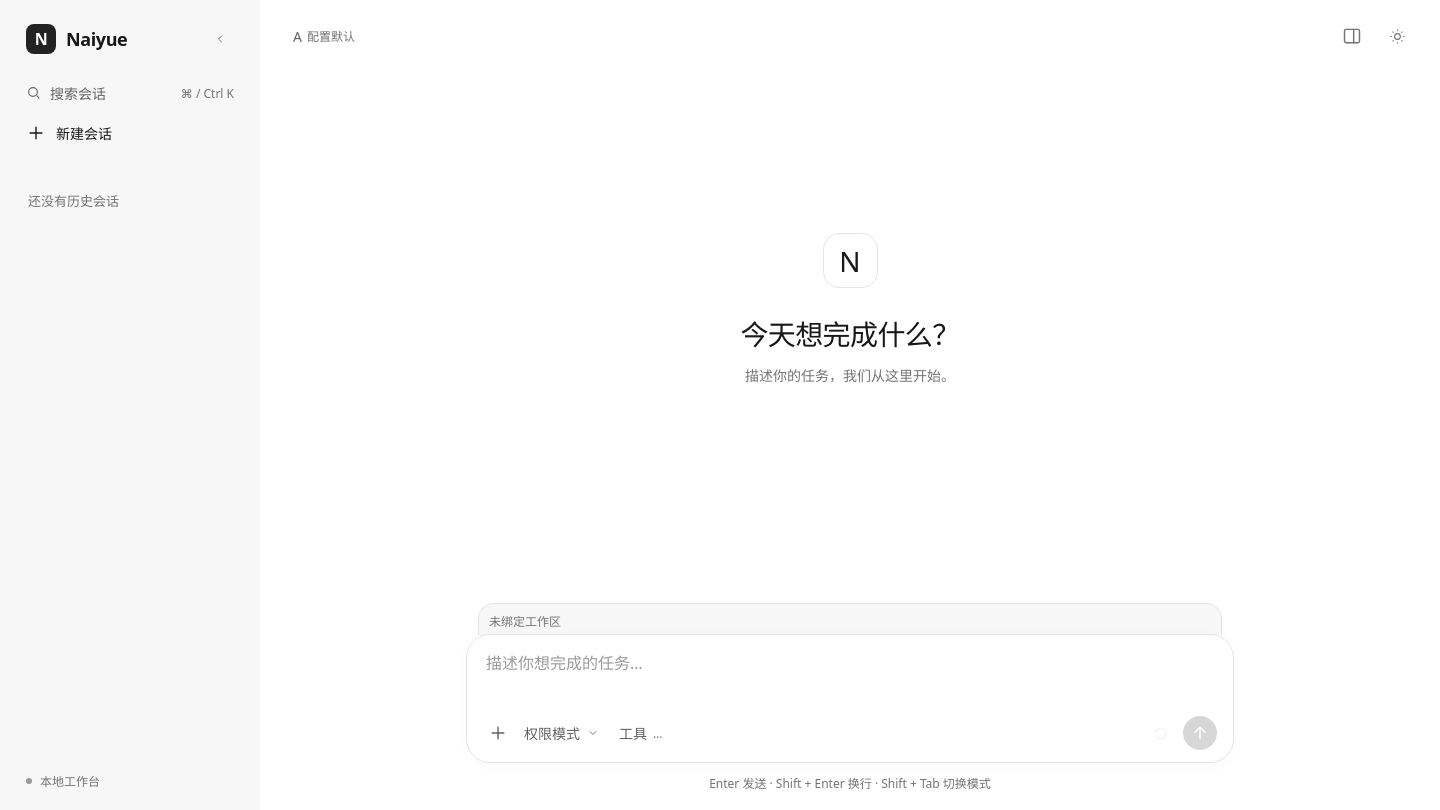
Test: opens the same header model menu with /model without starting a run
Expected: the button with aria-label "模型与推理强度：A" is shown, [288,19,360,53]
Step 1. Type "/model" into the text box named "消息" → point(850, 676), box [483,650,1217,703]
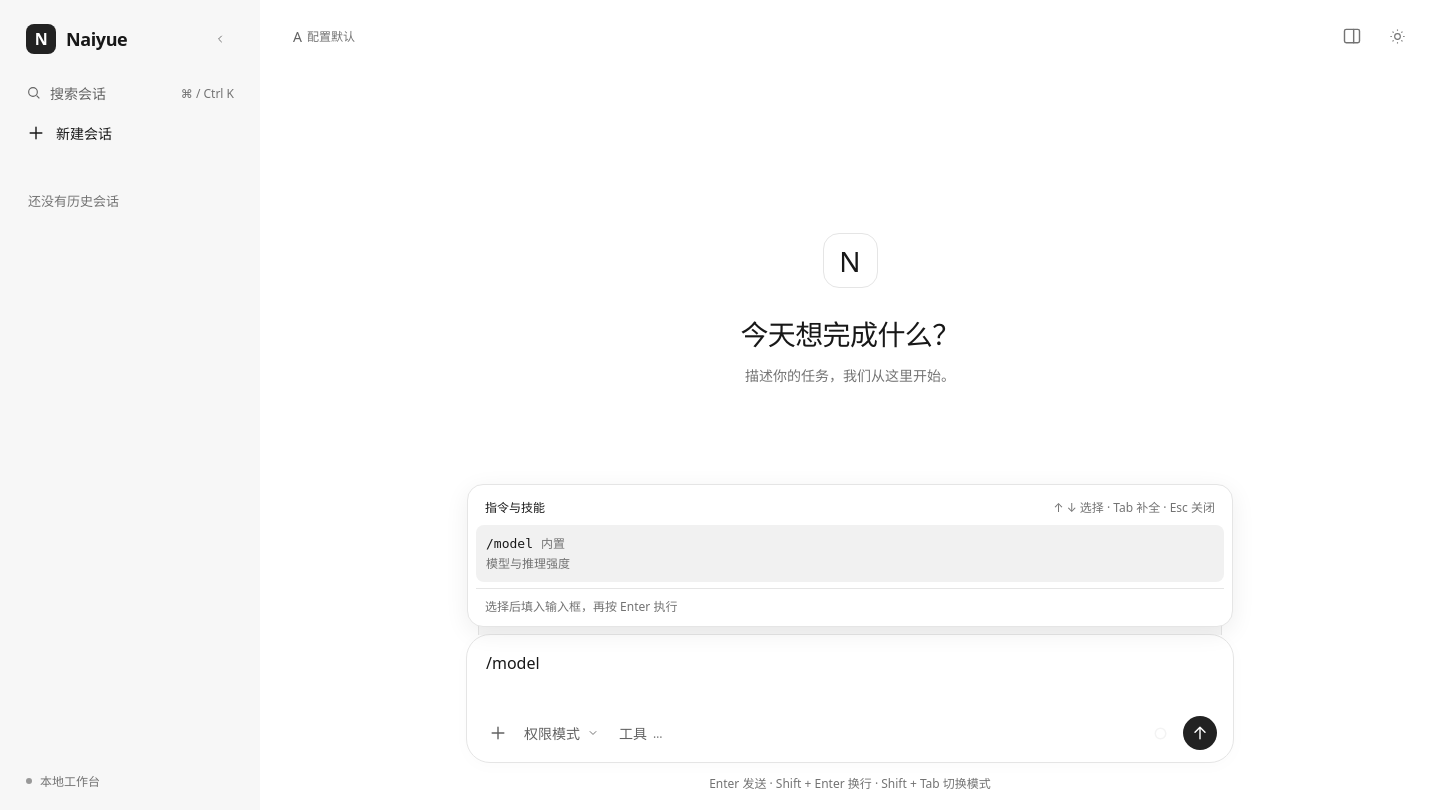
Step 2. Click the button named "发送消息" → point(1200, 733), box [1183,716,1217,750]
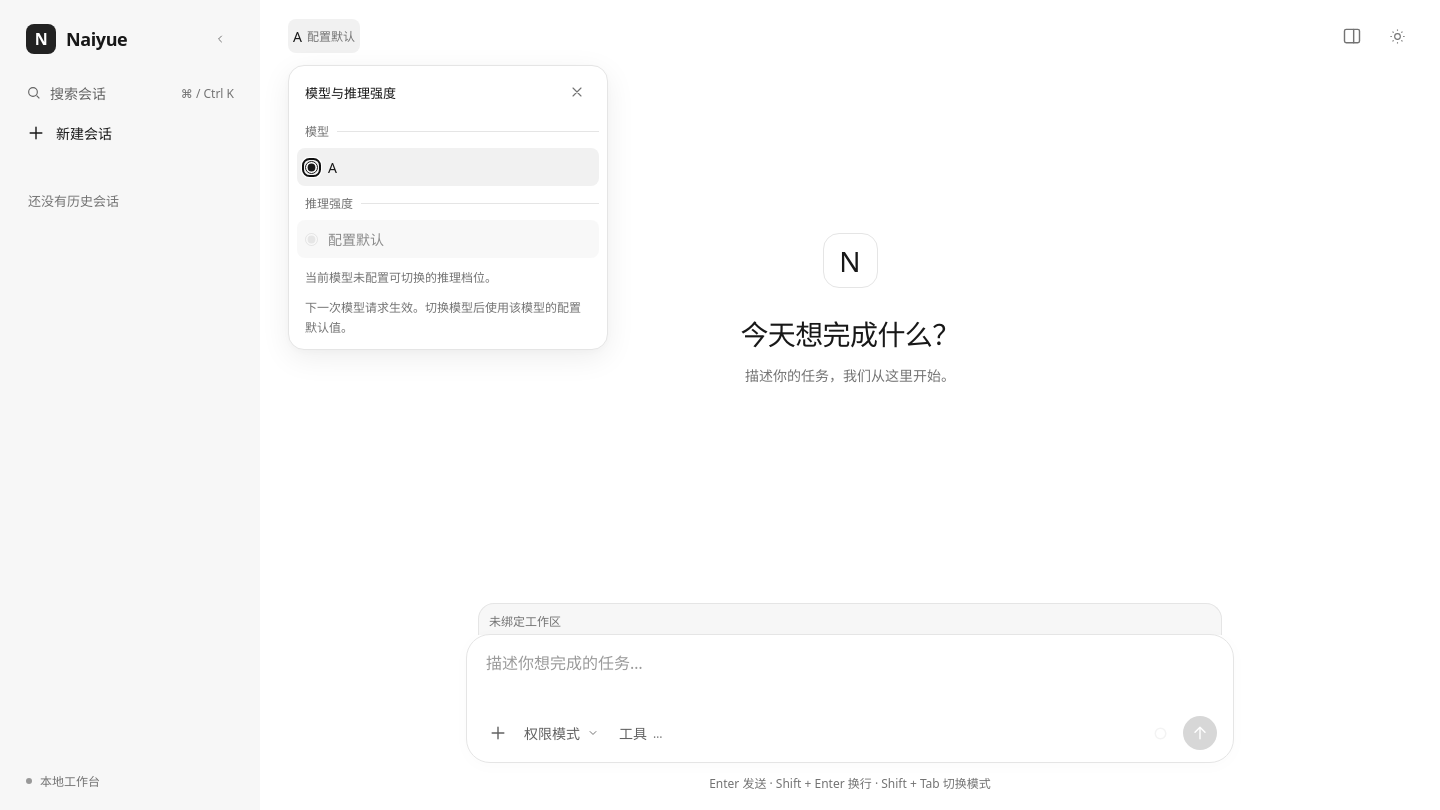
Expected: the number of buttons named "模型与推理强度：A" is 1, [288,19,360,53]
Now the header "模型与推理强度" is shown, box [260,0,1439,72]
